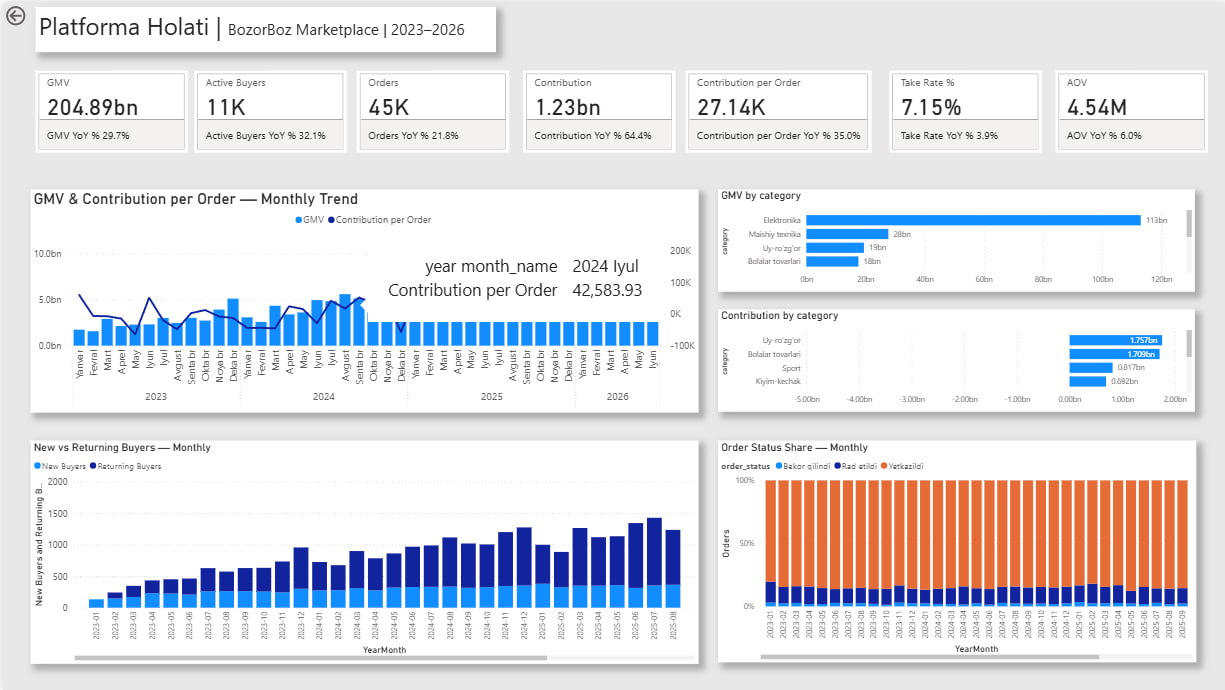

The page's visual inventory and layout, read from the dashboard file:
{"tool":"powerbi","page":{"name":"Platforma Holati","canvas":[1920,1080],"ordinal":0},"visuals":[{"type":"lineClusteredColumnComboChart","title":"GMV & Contribution per Order — Monthly Trend","fields":{"Y":["BB_Measures.GMV"],"Y2":["BB_Measures.Contribution per Order"],"Category":["dim_date.year","dim_date.month_name"]},"box":[43.8,291.7,1047.9,350],"z":7000},{"type":"textbox","box":[51,5,722.4,71.4],"z":8000},{"type":"clusteredBarChart","fields":{"Category":["dim_product.category"],"Y":["BB_Measures.GMV"]},"box":[1120.8,291.7,747.9,160.4],"z":9000},{"type":"clusteredBarChart","fields":{"Category":["dim_product.category"],"Y":["BB_Measures.Contribution"]},"box":[1120.8,481.2,747.9,160.4],"z":10000},{"type":"columnChart","title":"New vs Returning Buyers — Monthly","fields":{"Y":["BB_Measures.New Buyers","BB_Measures.Returning Buyers"],"Category":["dim_date.YearMonth"]},"box":[43.8,685.4,1047.9,350],"z":11000},{"type":"hundredPercentStackedColumnChart","title":"Order Status Share — Monthly","fields":{"Category":["dim_date.YearMonth"],"Y":["BB_Measures.Orders"],"Series":["fact_order.order_status"]},"box":[1120.8,685.4,750,347.9],"z":12000},{"type":"actionButton","box":[0,0,100,40],"z":13000},{"type":"cardVisual","fields":{"Data":["BB_Measures.GMV"]},"box":[50,106.2,239.6,129.2],"z":14000},{"type":"cardVisual","fields":{"Data":["BB_Measures.Active Buyers"]},"box":[300,105,239,129],"z":14001},{"type":"cardVisual","fields":{"Data":["BB_Measures.Orders"]},"box":[554.2,106.2,239.6,129.2],"z":14002},{"type":"cardVisual","fields":{"Data":["BB_Measures.Contribution"]},"box":[815,106,239,129],"z":14003},{"type":"cardVisual","fields":{"Data":["BB_Measures.Contribution per Order"]},"box":[1070.8,106.2,291.7,129.2],"z":14004},{"type":"cardVisual","fields":{"Data":["BB_Measures.Take Rate %"]},"box":[1390,106,239,129],"z":14005},{"type":"cardVisual","fields":{"Data":["BB_Measures.AOV"]},"box":[1650,106,239,129],"z":14006}]}

Visuals, with their boxes in screenshot pixels (x1, y1, x2, y2), scaled from the page's 1920x1080 canvas onto the 1225x690 screenshot:
"GMV & Contribution per Order — Monthly Trend" lineClusteredColumnComboChart: <box>28,186,697,410</box>
textbox: <box>33,3,493,49</box>
clusteredBarChart - dim_product.category x BB_Measures.GMV: <box>715,186,1192,289</box>
clusteredBarChart - dim_product.category x BB_Measures.Contribution: <box>715,307,1192,410</box>
"New vs Returning Buyers — Monthly" columnChart: <box>28,438,697,662</box>
"Order Status Share — Monthly" hundredPercentStackedColumnChart: <box>715,438,1194,660</box>
actionButton: <box>0,0,64,26</box>
cardVisual - BB_Measures.GMV: <box>32,68,185,150</box>
cardVisual - BB_Measures.Active Buyers: <box>191,67,344,150</box>
cardVisual - BB_Measures.Orders: <box>354,68,506,150</box>
cardVisual - BB_Measures.Contribution: <box>520,68,672,150</box>
cardVisual - BB_Measures.Contribution per Order: <box>683,68,869,150</box>
cardVisual - BB_Measures.Take Rate %: <box>887,68,1039,150</box>
cardVisual - BB_Measures.AOV: <box>1053,68,1205,150</box>
